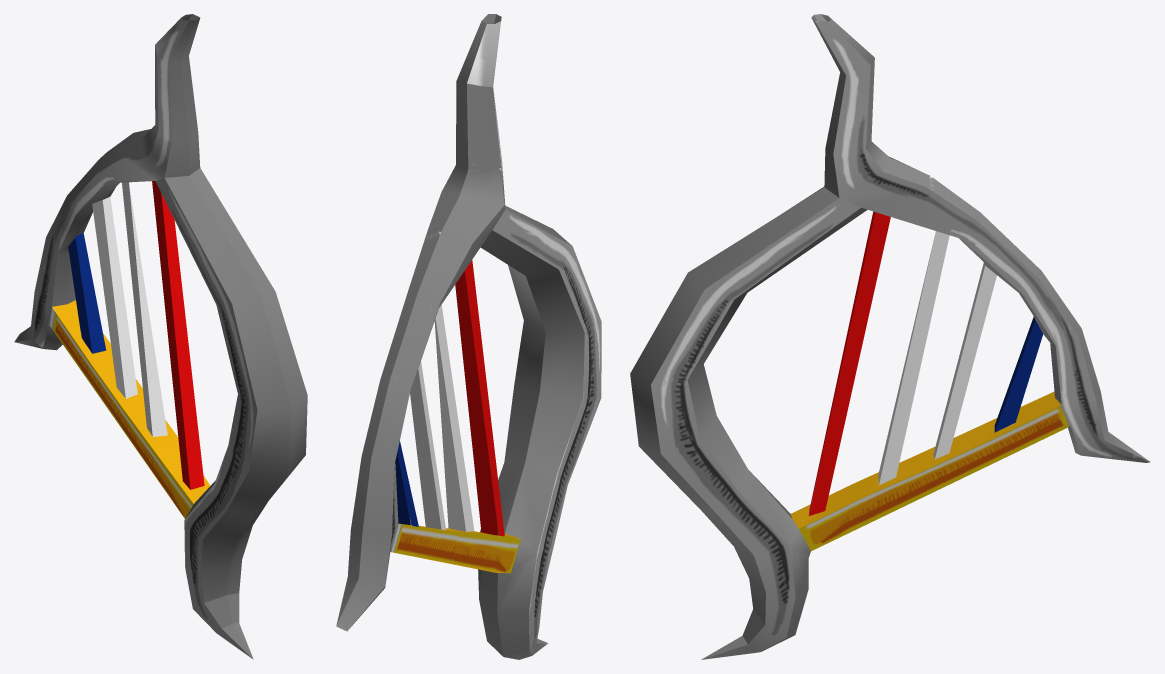
The model's file is Arpa1_000009.obj.
3 views of the same model, side by side, from view 1: azimuth 30°, elevation 25°; view 2: azimuth 150°, elevation 25°; view 3: azimuth 270°, elevation 25° (orthographic). The views are drawn at different scales.
Visible parts, largest first — view 1: a1_pCube7.001; view 2: a1_pCube7.001; view 3: a1_pCube7.001.
Boxes of the visible parts, left/top/right/bottom form: a1_pCube7.001: left=14, top=14, right=307, bottom=659; a1_pCube7.001: left=336, top=14, right=601, bottom=659; a1_pCube7.001: left=630, top=14, right=1150, bottom=659.
Size of the model in its own units: 1.25 by 10.05 by 7.42.
